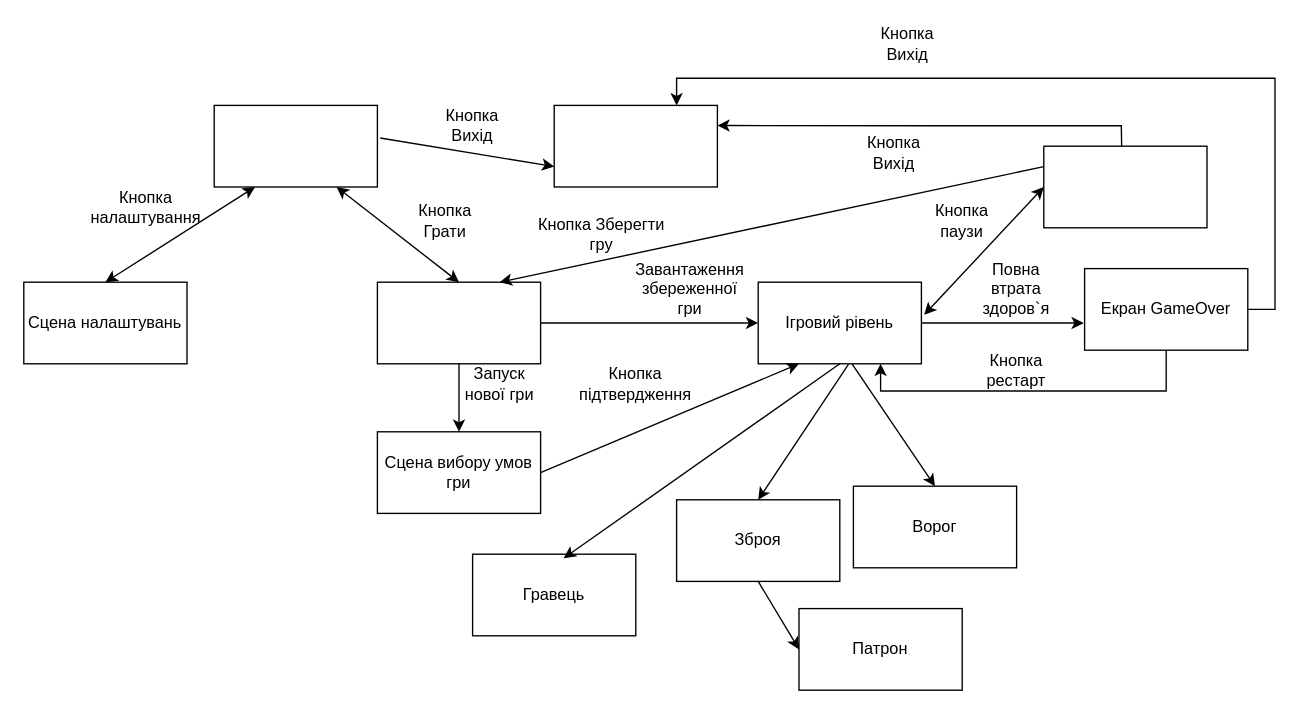
This 1310x714 diagram has some shape labels left out. The shapes that lost their labels are listed below. From the top down, each one's centre as x and y in pixels, then its label:
At (x=295, y=145): "Головне меню".
At (x=635, y=145): "Вихід з гри".
At (x=1124, y=186): "Екран паузи".
At (x=458, y=322): "Сцена вибору збереження гри".
